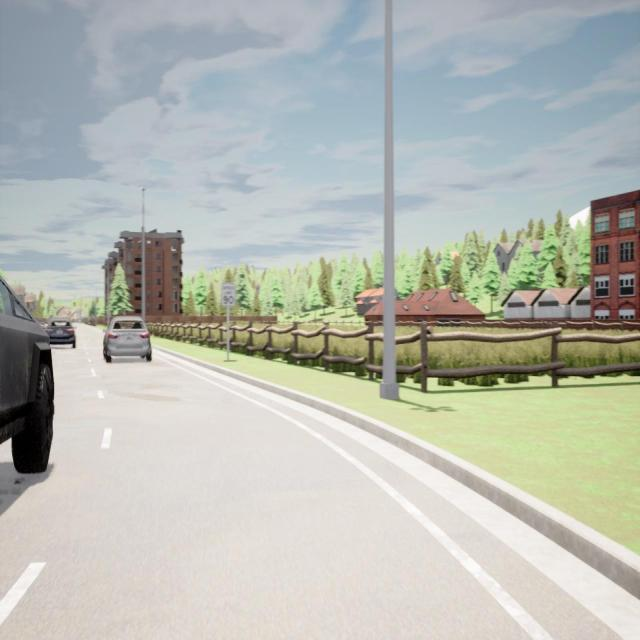Traffic_Signs: (222, 284, 234, 306)
Vehicle: (0, 276, 54, 474), (102, 316, 152, 364), (45, 317, 77, 349)
